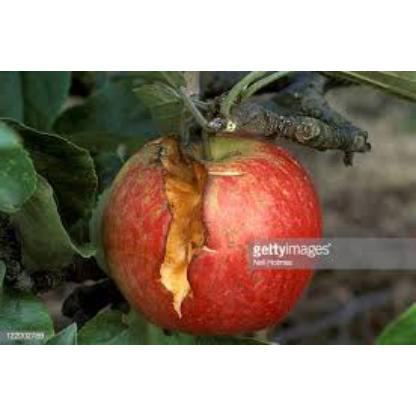apple: (102, 135, 320, 321)
